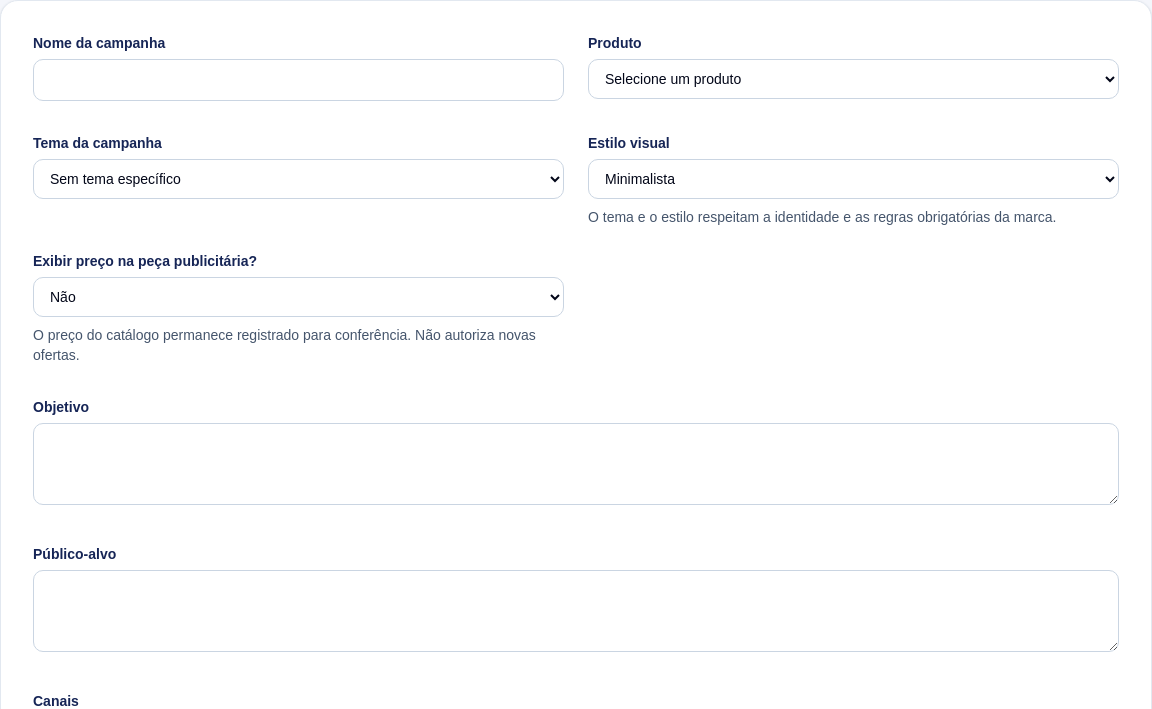
Scenario: não oferece mock para GENERATION_CONTRACT_ERROR
Type "Campanha" into the field labelled "Nome da campanha" at coordinates (298, 80), box [33,59,564,101]
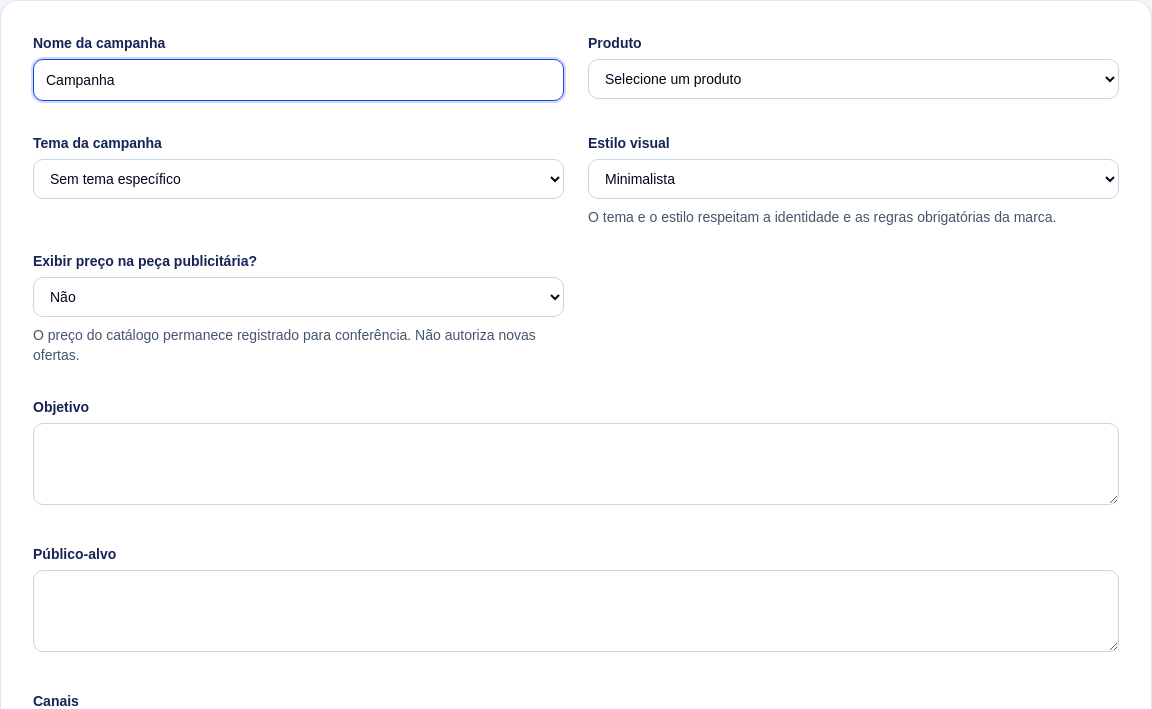
Select "Produto" in the dropdown labelled "Produto" at coordinates (854, 79), box [588,59,1119,99]
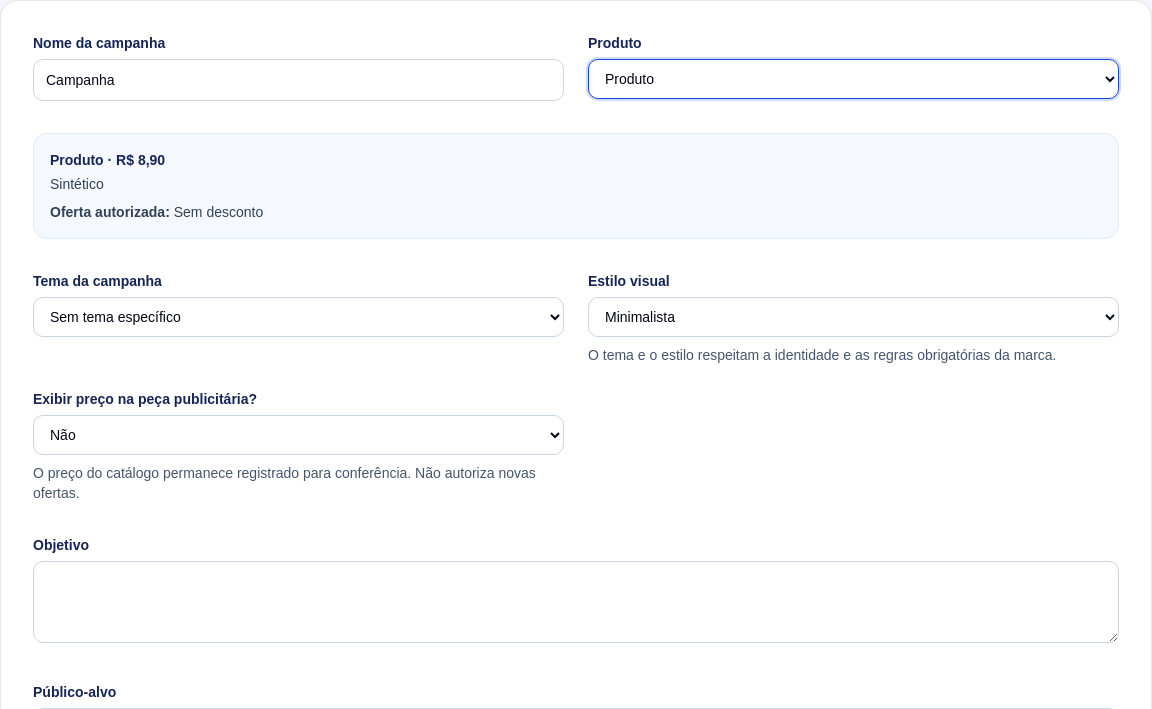
Type "Divulgar" into the text box labelled "Objetivo" at coordinates (576, 602), box [33,561,1119,643]
(page scrolled)
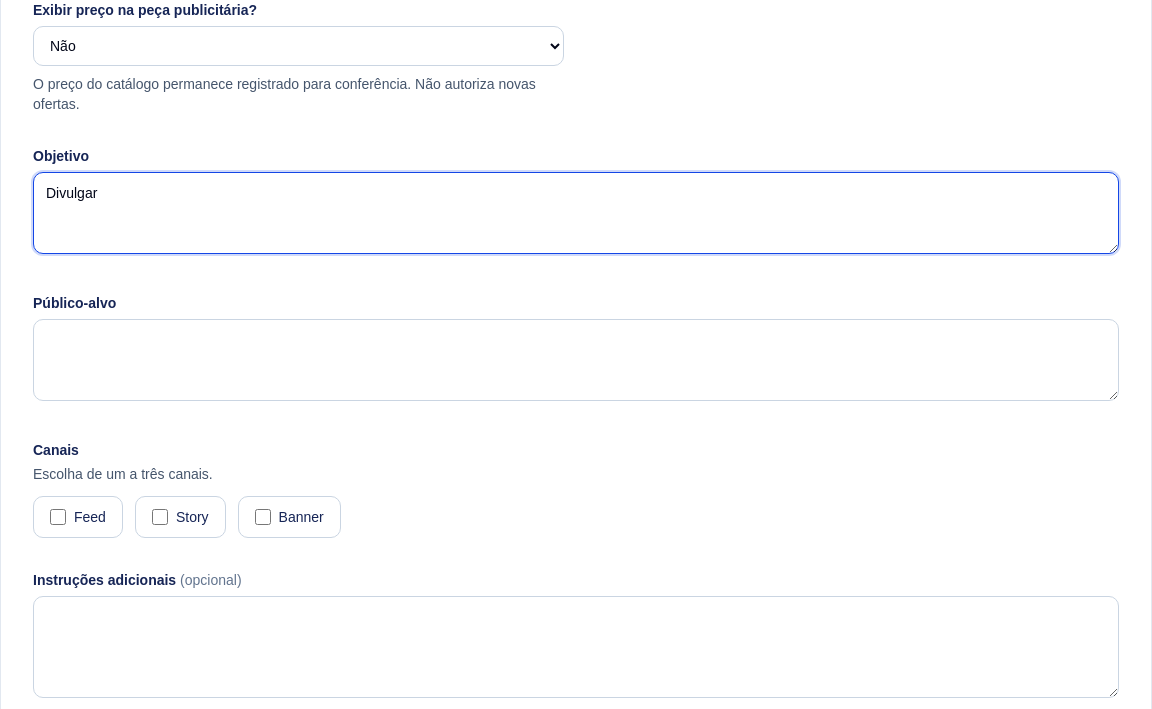
Type "Adultos" into the text box labelled "Público-alvo" at coordinates (576, 360), box [33,319,1119,401]
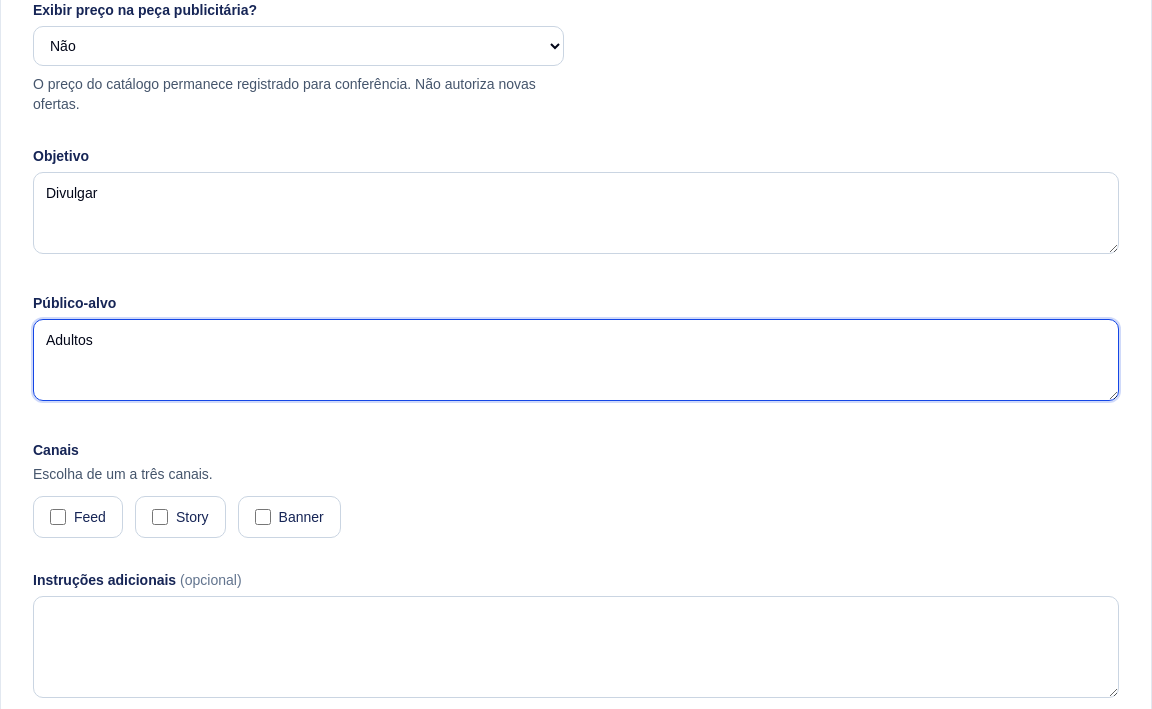
Click the checkbox labelled "Feed" at coordinates (58, 517), box [50,509,66,525]
(page scrolled)
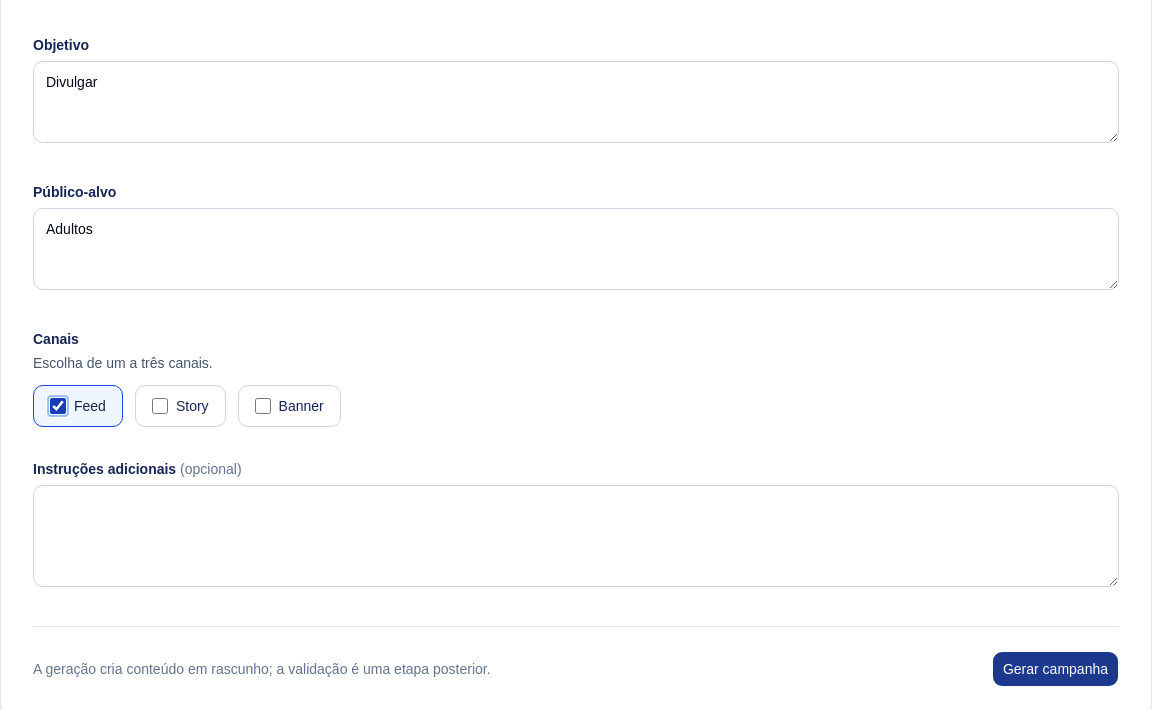
Click the button "Gerar campanha" at coordinates (1055, 669), box [992,651,1119,687]
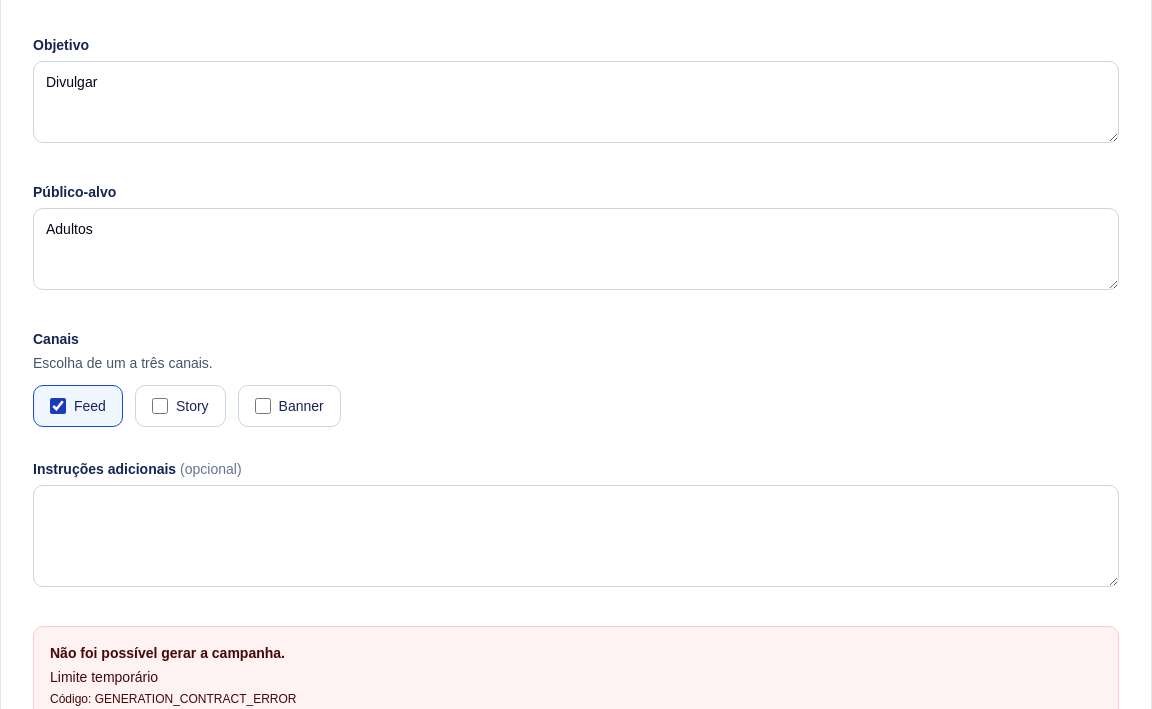
Expected: the text "Limite temporário" is shown, [50,669,158,685]
